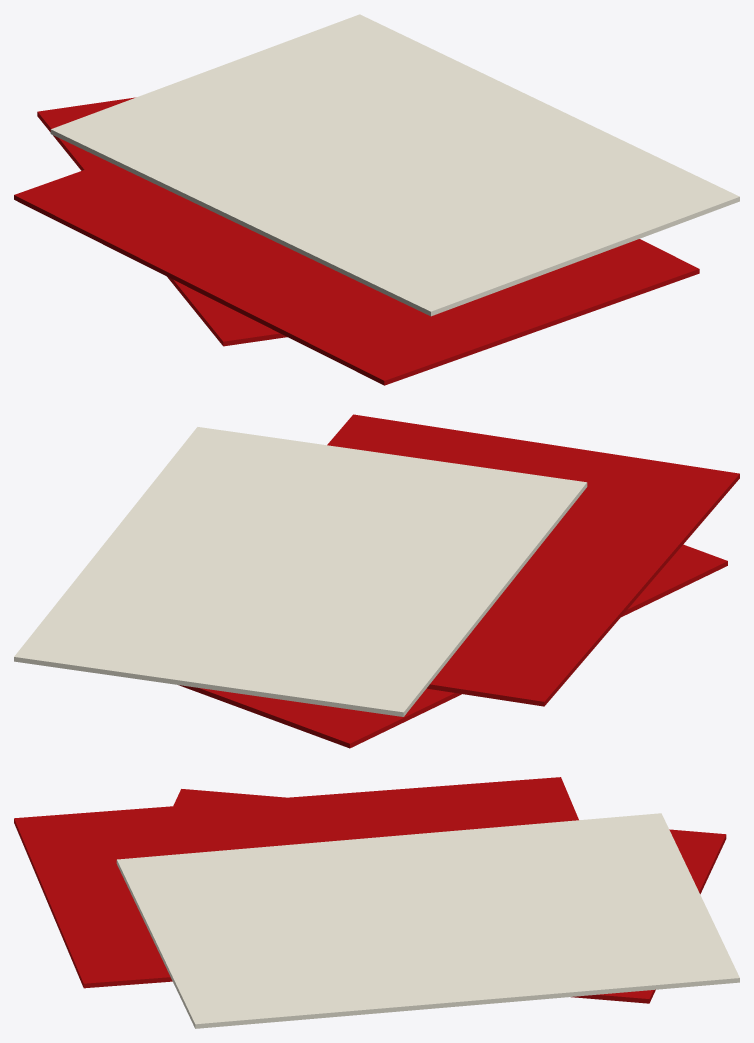
The model's file is Item_OR_Cards_12.glb.
The picture shows the model from 3 angles, top to bottom: view 1: azimuth 30°, elevation 25°; view 2: azimuth 150°, elevation 25°; view 3: azimuth 270°, elevation 25°; orthographic projection. The views are drawn at different scales.
Visible parts, largest first — view 1: Item_OR_Cards_12; view 2: Item_OR_Cards_12; view 3: Item_OR_Cards_12.
Part boxes in pixels (x1,y1,x2,y2): Item_OR_Cards_12: [14, 14, 739, 385]; Item_OR_Cards_12: [14, 414, 739, 748]; Item_OR_Cards_12: [14, 777, 739, 1028].
Bounding box in the file's own units: 0.0948 × 0.0028 × 0.115.
